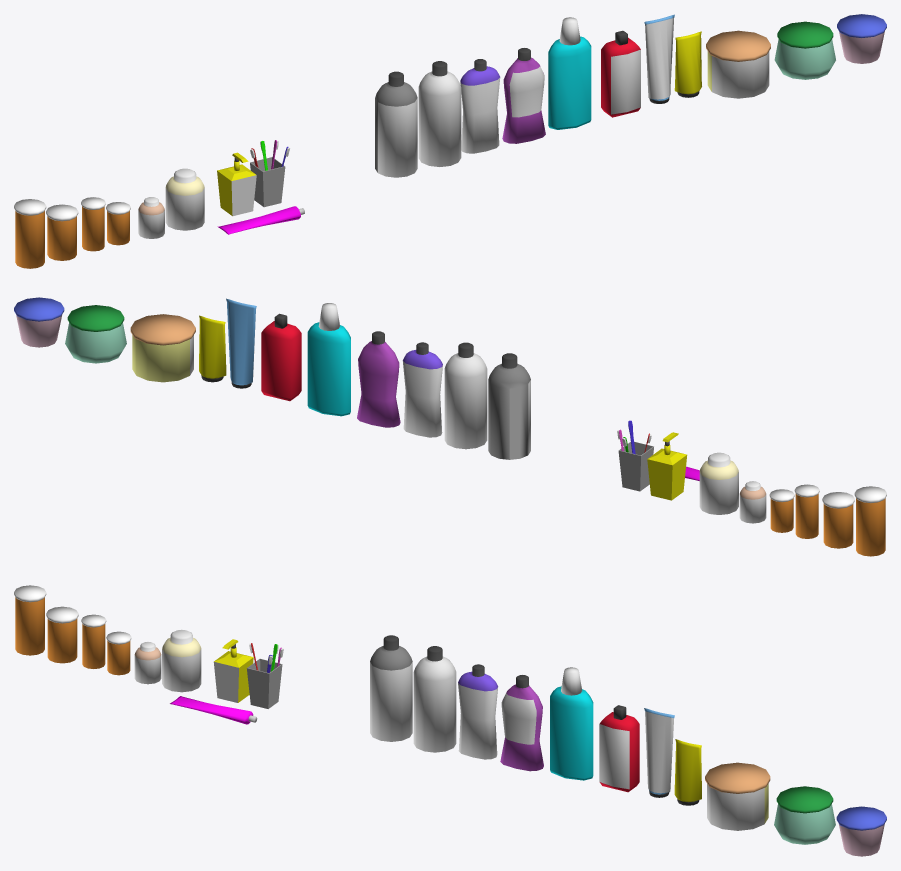
Rendered from batheroom stuff.fbx.
The picture shows the model from 3 angles, top to bottom: view 1: azimuth 30°, elevation 25°; view 2: azimuth 150°, elevation 25°; view 3: azimuth 330°, elevation 25°; orthographic projection.
Parts seen in each view (by area): view 1: Cylinder.009, Cylinder.001, Cylinder, Cylinder.004, Cylinder.008, Cylinder.002, Cube.006, Cylinder.016, Cylinder.005, Cylinder.010, Cylinder.013, Cylinder.015 (+8 smaller); view 2: Cylinder.009, Cylinder.001, Cylinder, Cylinder.004, Cylinder.008, Cylinder.002, Cube.006, Cylinder.016, Cylinder.005, Cylinder.010, Cylinder.013, Cylinder.015 (+7 smaller); view 3: Cylinder.009, Cylinder.001, Cylinder, Cylinder.004, Cylinder.008, Cylinder.002, Cube.006, Cylinder.016, Cylinder.005, Cylinder.010, Cylinder.013, Cylinder.015 (+8 smaller).
Part boxes in pixels (x1,y1,x2,y2): Cylinder.009: (548, 17, 591, 129); Cylinder.001: (418, 61, 461, 166); Cylinder: (375, 71, 417, 177); Cylinder.004: (706, 30, 770, 98); Cylinder.008: (502, 48, 545, 143); Cylinder.002: (460, 59, 500, 153); Cube.006: (601, 30, 640, 117); Cylinder.016: (774, 21, 835, 79); Cylinder.005: (644, 14, 674, 103); Cylinder.010: (165, 168, 204, 230); Cylinder.013: (14, 199, 46, 268); Cylinder.015: (837, 14, 886, 63); Cylinder.009: (307, 303, 350, 416); Cylinder.001: (444, 342, 487, 449); Cylinder: (488, 353, 530, 459); Cylinder.004: (130, 314, 195, 382); Cylinder.008: (357, 331, 400, 427); Cylinder.002: (402, 342, 442, 437); Cube.006: (261, 313, 301, 401); Cylinder.016: (65, 305, 126, 363); Cylinder.005: (226, 298, 256, 388); Cylinder.010: (699, 452, 738, 514); Cylinder.013: (854, 486, 886, 556); Cylinder.015: (14, 297, 64, 347); Cylinder.009: (550, 667, 593, 780); Cylinder.001: (413, 646, 456, 752); Cylinder: (370, 635, 412, 741); Cylinder.004: (705, 762, 770, 830); Cylinder.008: (500, 675, 543, 771); Cylinder.002: (458, 664, 498, 759); Cube.006: (599, 705, 639, 792); Cylinder.016: (774, 786, 835, 844); Cylinder.005: (644, 708, 674, 797); Cylinder.010: (162, 629, 201, 692); Cylinder.013: (14, 585, 46, 655); Cylinder.015: (836, 806, 886, 856).
Bounding box in the file's own units: 7586 × 941 × 670.
